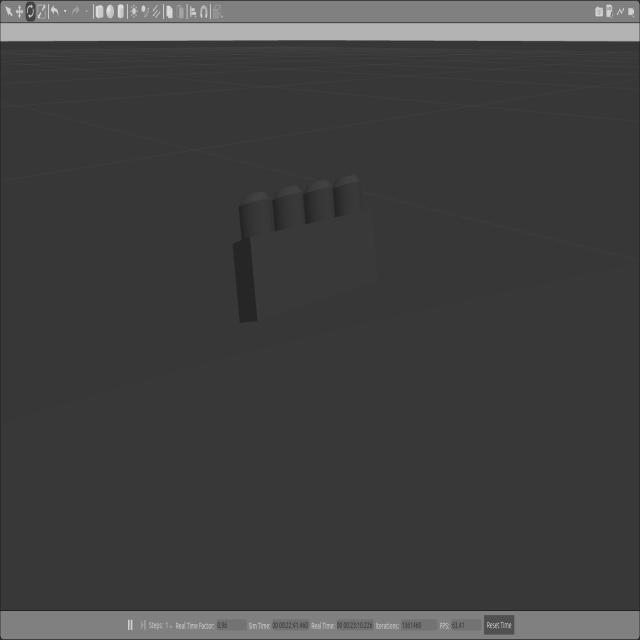block9: (232, 173, 378, 325)
